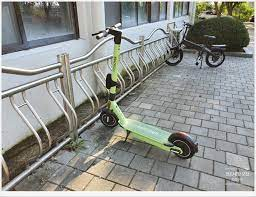kick_board: (91, 22, 198, 157)
kick_handler: (92, 22, 123, 42)
kick_neck: (109, 46, 121, 106)
kick_wheel: (172, 132, 195, 158), (101, 110, 117, 127)
